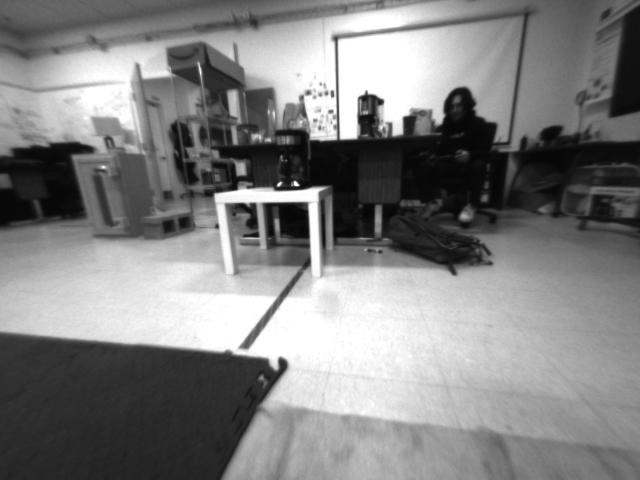coffee_pot: (270, 127, 314, 196)
